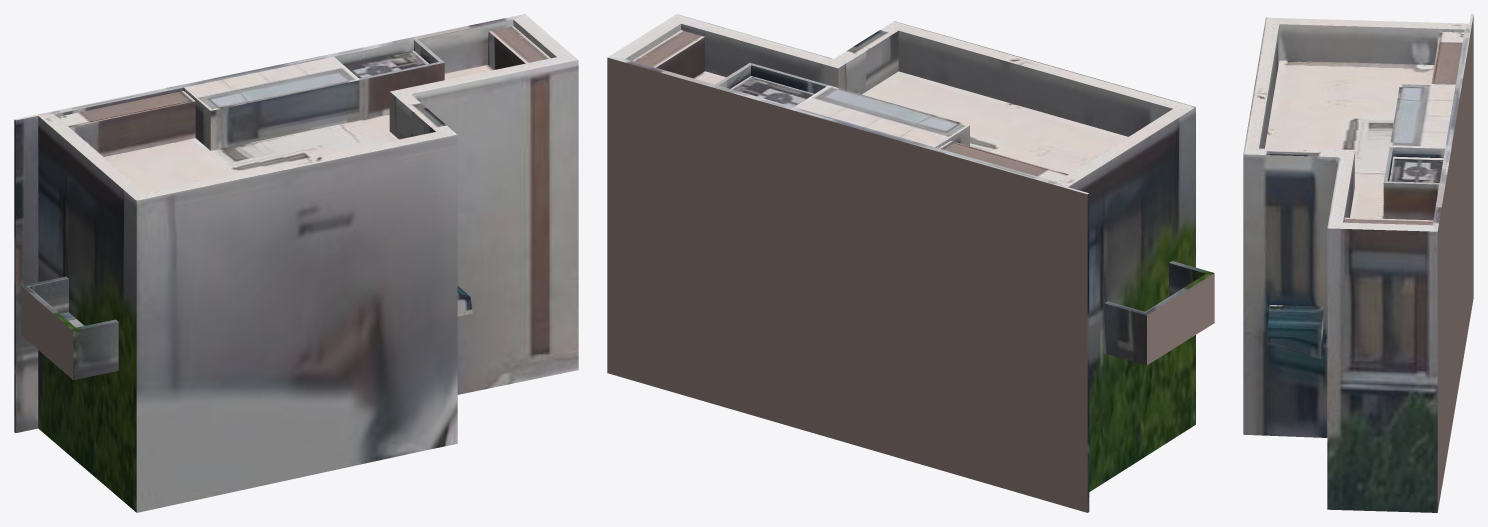
The picture shows the model from 3 angles, left to right: view 1: azimuth 30°, elevation 25°; view 2: azimuth 150°, elevation 25°; view 3: azimuth 270°, elevation 25°; orthographic projection. The views are drawn at different scales.
Parts seen in each view (by area): view 1: B282734038901062A0; view 2: B282734038901062A0; view 3: B282734038901062A0.
Boxes of the visible parts, box(x1,y1,x2,y2) form: B282734038901062A0: box(14, 14, 578, 512); B282734038901062A0: box(607, 14, 1214, 512); B282734038901062A0: box(1243, 14, 1473, 512).
Size of the model in its own units: 16.43 by 9.37 by 6.89.
Materials: 1 (1 with a texture image).
